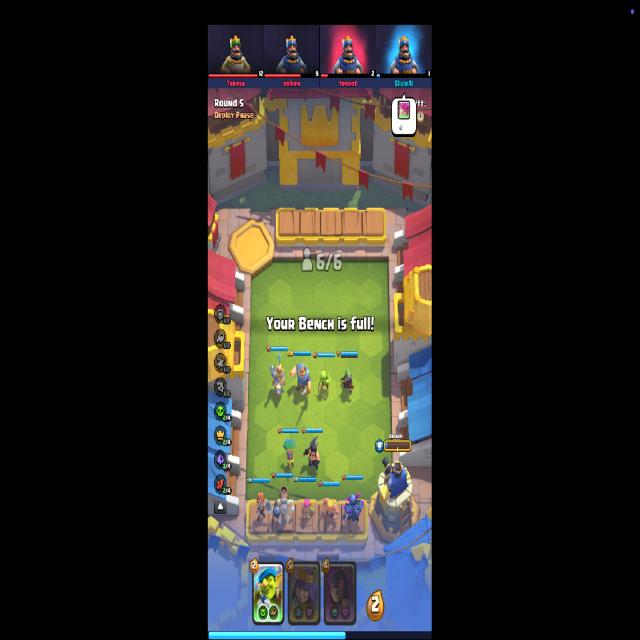archer: (300, 498, 316, 523)
bandit: (340, 367, 354, 394)
barbarian: (318, 497, 340, 523)
card_archer_queen: (288, 559, 320, 625)
card_spear_goblin: (251, 560, 285, 628)
card_witch: (323, 560, 357, 627)
dart_goblin: (282, 438, 296, 468)
executioner: (303, 437, 322, 469)
giant_skeleton: (274, 486, 295, 526)
goblin: (318, 371, 330, 396)
knight: (290, 360, 312, 398)
pekka: (344, 490, 364, 526)
prince: (270, 353, 287, 395)
valkyrie: (256, 491, 272, 522)
